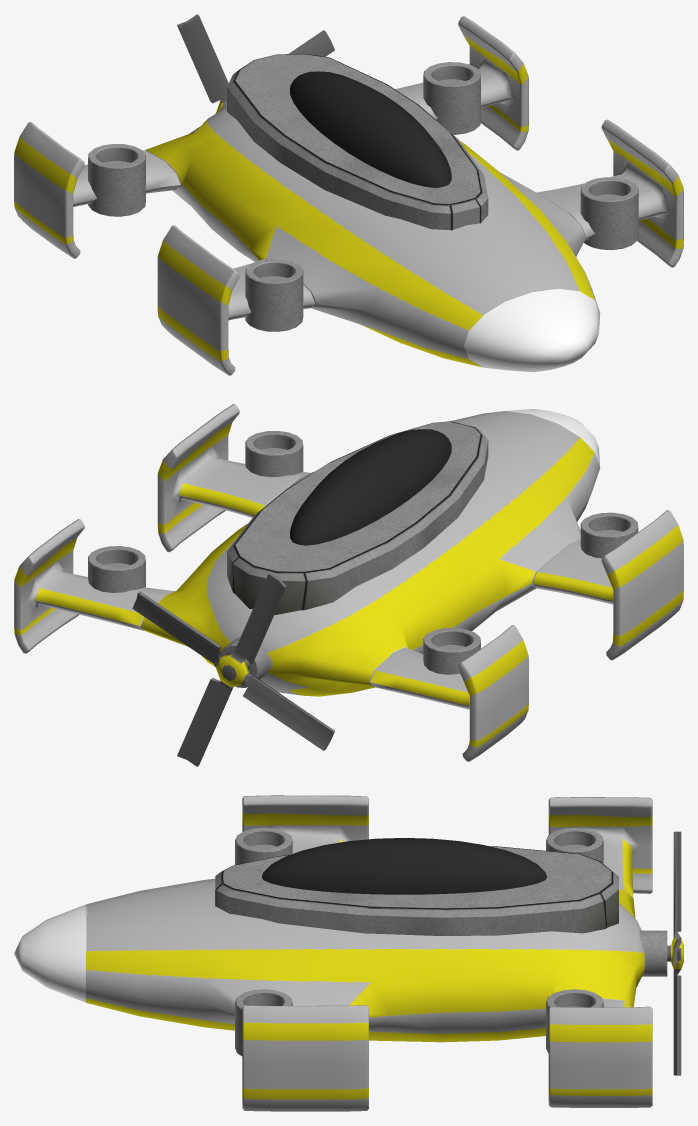
The model's file is ship.fbx.
3 renders of one model, top to bottom at view 1: azimuth 30°, elevation 25°; view 2: azimuth 150°, elevation 25°; view 3: azimuth 270°, elevation 25°, orthographic.
Parts seen in each view (by area): view 1: pSphere1, pCylinder5, pSphere2, pCylinder14, pCylinder13, pCylinder1, pCylinder2, pCylinder8, pCylinder10, pCylinder3, pCylinder4, pCylinder6; view 2: pSphere1, pCylinder5, pCylinder14, pSphere2, pCylinder13, pCylinder1, pCylinder6, pCylinder2, pCylinder4, pCylinder3, pCylinder10, pCylinder8 (+1 smaller); view 3: pSphere1, pCylinder5, pCylinder1, pSphere2, pCylinder2, pCylinder13, pCylinder14, pCylinder6, pCylinder8, pCylinder10, pCylinder3, pCylinder12 (+1 smaller).
Boxes of the visible parts, left/top/right/bottom form: pSphere1: left=145, top=107, right=600, bottom=372; pCylinder5: left=227, top=53, right=488, bottom=230; pSphere2: left=290, top=71, right=451, bottom=187; pCylinder14: left=157, top=225, right=314, bottom=375; pCylinder13: left=14, top=122, right=180, bottom=258; pCylinder1: left=537, top=119, right=683, bottom=267; pCylinder2: left=395, top=16, right=528, bottom=150; pCylinder8: left=245, top=259, right=303, bottom=331; pCylinder10: left=88, top=144, right=145, bottom=216; pCylinder3: left=580, top=177, right=638, bottom=249; pCylinder4: left=423, top=62, right=480, bottom=134; pCylinder6: left=177, top=14, right=334, bottom=133; pSphere1: left=140, top=409, right=600, bottom=696; pCylinder5: left=227, top=421, right=488, bottom=614; pCylinder14: left=532, top=510, right=683, bottom=660; pSphere2: left=290, top=429, right=451, bottom=545; pCylinder13: left=370, top=625, right=528, bottom=761; pCylinder1: left=157, top=404, right=310, bottom=552; pCylinder6: left=132, top=572, right=334, bottom=766; pCylinder2: left=14, top=519, right=174, bottom=653; pCylinder4: left=88, top=546, right=145, bottom=592; pCylinder3: left=245, top=431, right=303, bottom=477; pCylinder10: left=423, top=628, right=480, bottom=674; pCylinder8: left=580, top=512, right=638, bottom=558; pSphere1: left=14, top=878, right=645, bottom=1042; pCylinder5: left=215, top=846, right=618, bottom=935; pCylinder1: left=242, top=1005, right=368, bottom=1111; pSphere2: left=262, top=838, right=546, bottom=894; pCylinder2: left=548, top=999, right=652, bottom=1107; pCylinder13: left=548, top=797, right=652, bottom=897; pCylinder14: left=242, top=795, right=368, bottom=853; pCylinder6: left=667, top=831, right=683, bottom=1075; pCylinder8: left=235, top=827, right=292, bottom=864; pCylinder10: left=546, top=827, right=603, bottom=863; pCylinder3: left=235, top=989, right=292, bottom=1056; pCylinder12: left=639, top=930, right=667, bottom=976.
Size of the model in its own units: 6.22 by 2.78 by 7.82.
